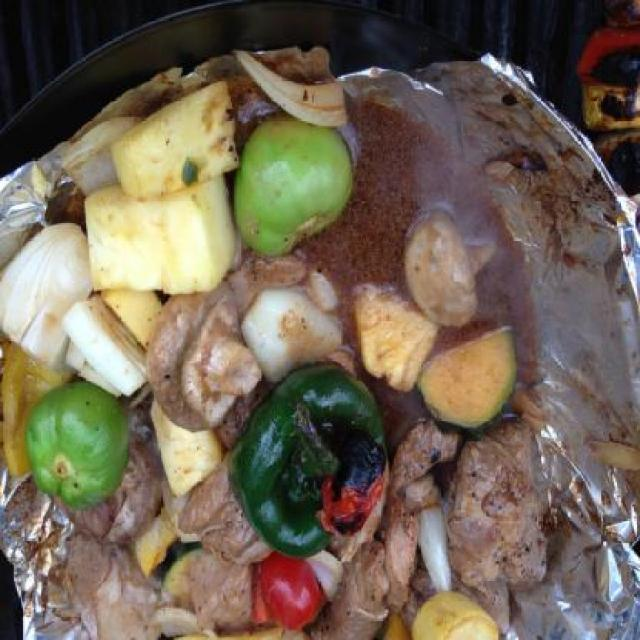Pineapple: (81, 170, 242, 302), (112, 80, 240, 202), (354, 284, 438, 393), (155, 399, 228, 499)
